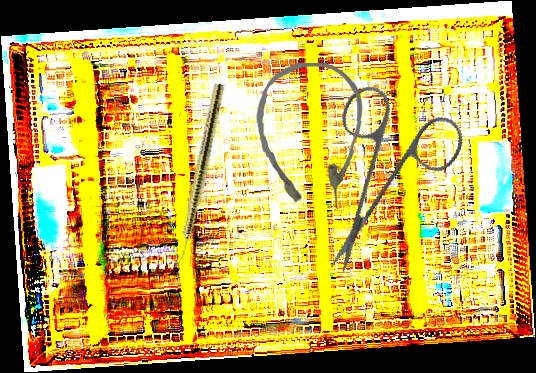Cannula: (254, 61, 367, 212)
Handpiece: (172, 82, 226, 272)
Iris Scissors: (275, 60, 494, 277)
